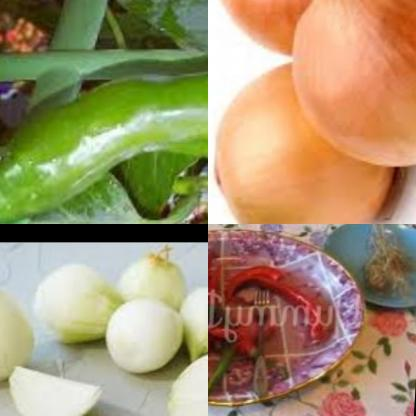hot pepper: (0, 60, 208, 224), (230, 256, 341, 343), (208, 248, 255, 397)
onion: (208, 55, 404, 224), (281, 0, 416, 169), (208, 0, 416, 61), (21, 258, 125, 349), (96, 294, 189, 372), (4, 359, 115, 416), (0, 258, 45, 390), (119, 245, 196, 314), (168, 282, 208, 359)
